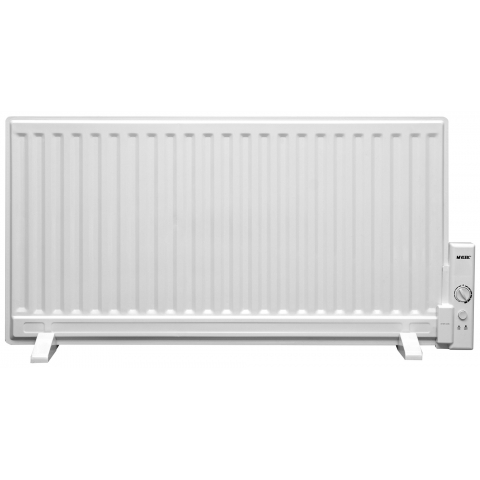Radiator: (2, 114, 477, 358)
